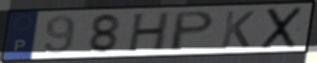8: (87, 12, 123, 54)
9: (42, 14, 77, 55)
H: (126, 10, 174, 53)
K: (219, 10, 257, 49)
P: (167, 9, 218, 53)
X: (258, 5, 305, 51)
